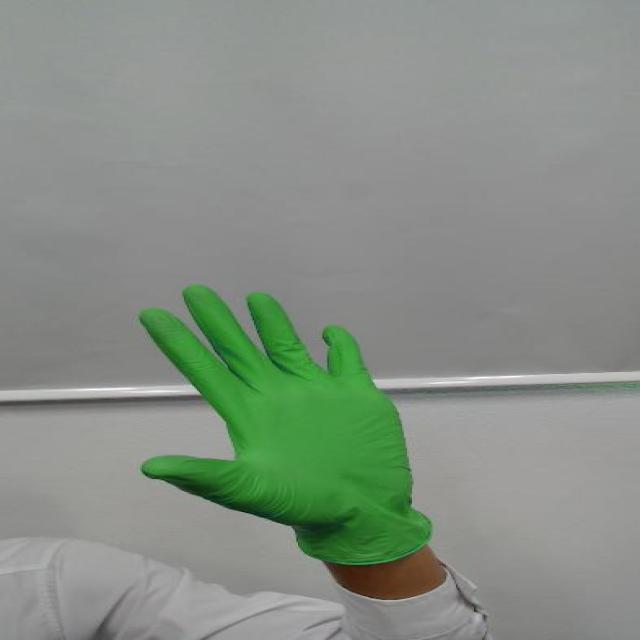gloved_hand: (130, 275, 428, 528)
